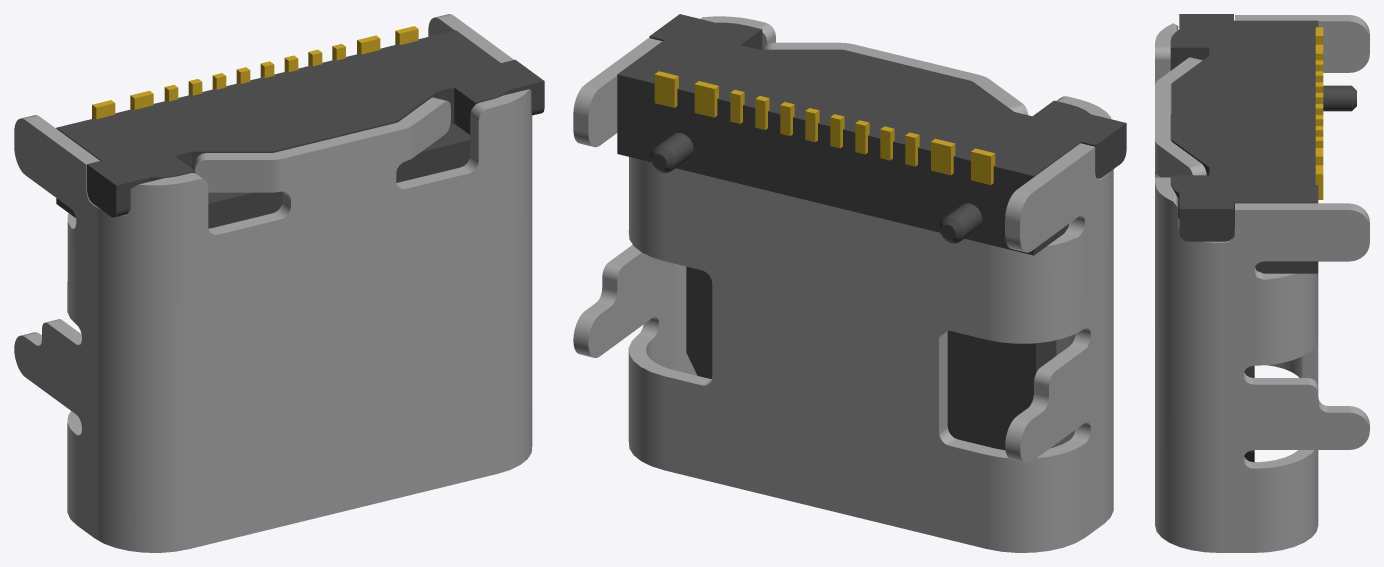
The model's file is SHOU_HAN_TYPE_C_16PIN_2MD_073.3dmodel.glb.
3 renders of one model, left to right at view 1: azimuth 30°, elevation 25°; view 2: azimuth 150°, elevation 25°; view 3: azimuth 270°, elevation 25°, orthographic. The views are drawn at different scales.
Visible parts, largest first — view 1: =>[0:1:1:1]; view 2: =>[0:1:1:1]; view 3: =>[0:1:1:1].
Part boxes in pixels (x1,y1,x2,y2): =>[0:1:1:1]: (14, 14, 544, 552); =>[0:1:1:1]: (573, 14, 1126, 552); =>[0:1:1:1]: (1155, 14, 1369, 552).
Size of the model in its own units: 8.94 by 7.58 by 4.16.
